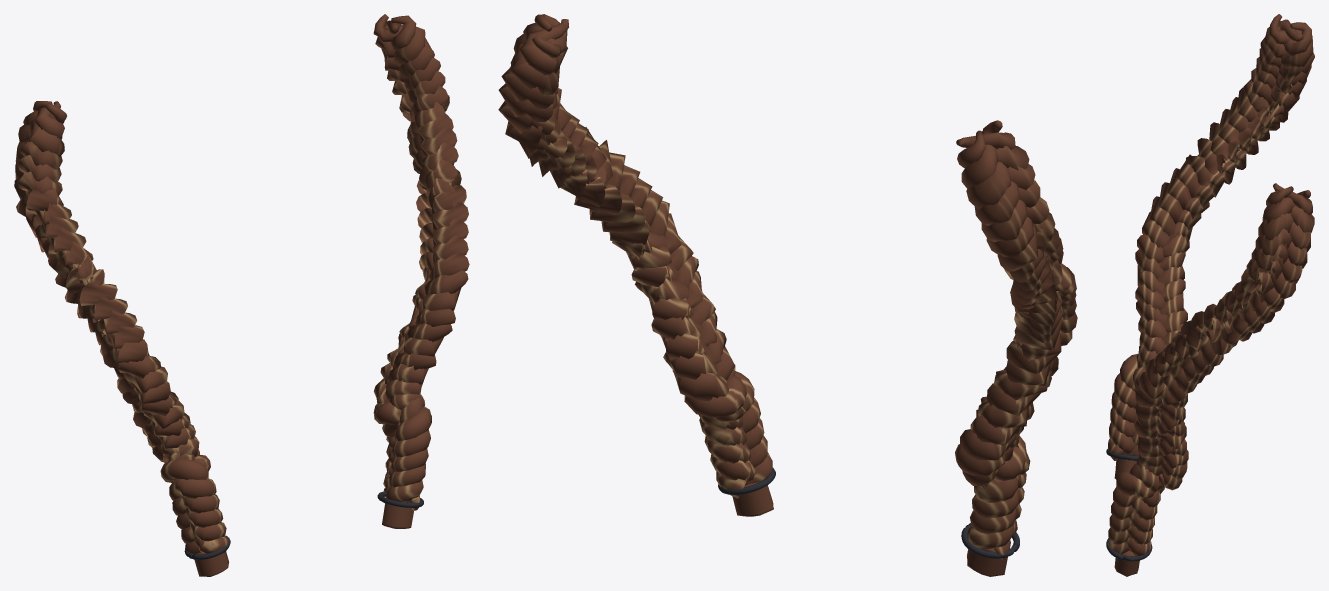
The model's file is Highlights-83bda0f4629a252-hair.glb.
3 renders of one model, left to right at view 1: azimuth 30°, elevation 25°; view 2: azimuth 150°, elevation 25°; view 3: azimuth 270°, elevation 25°, orthographic. The views are drawn at different scales.
Visible parts, largest first — view 1: 226 hairLengths / Hair / chestnut226, 226 hairLengths / Hair / ties226; view 2: 226 hairLengths / Hair / chestnut226, 226 hairLengths / Hair / ties226; view 3: 226 hairLengths / Hair / chestnut226, 226 hairLengths / Hair / ties226.
Boxes of the visible parts, box(x1,y1,x2,y2) form: 226 hairLengths / Hair / chestnut226: box(14, 14, 469, 576); 226 hairLengths / Hair / ties226: box(184, 491, 423, 559); 226 hairLengths / Hair / chestnut226: box(498, 14, 1077, 576); 226 hairLengths / Hair / ties226: box(718, 468, 1019, 558); 226 hairLengths / Hair / chestnut226: box(1108, 14, 1314, 576); 226 hairLengths / Hair / ties226: box(1106, 449, 1152, 561).
Size of the model in its own units: 1.09 by 1.06 by 0.4676.
2 materials, 1 textured.
